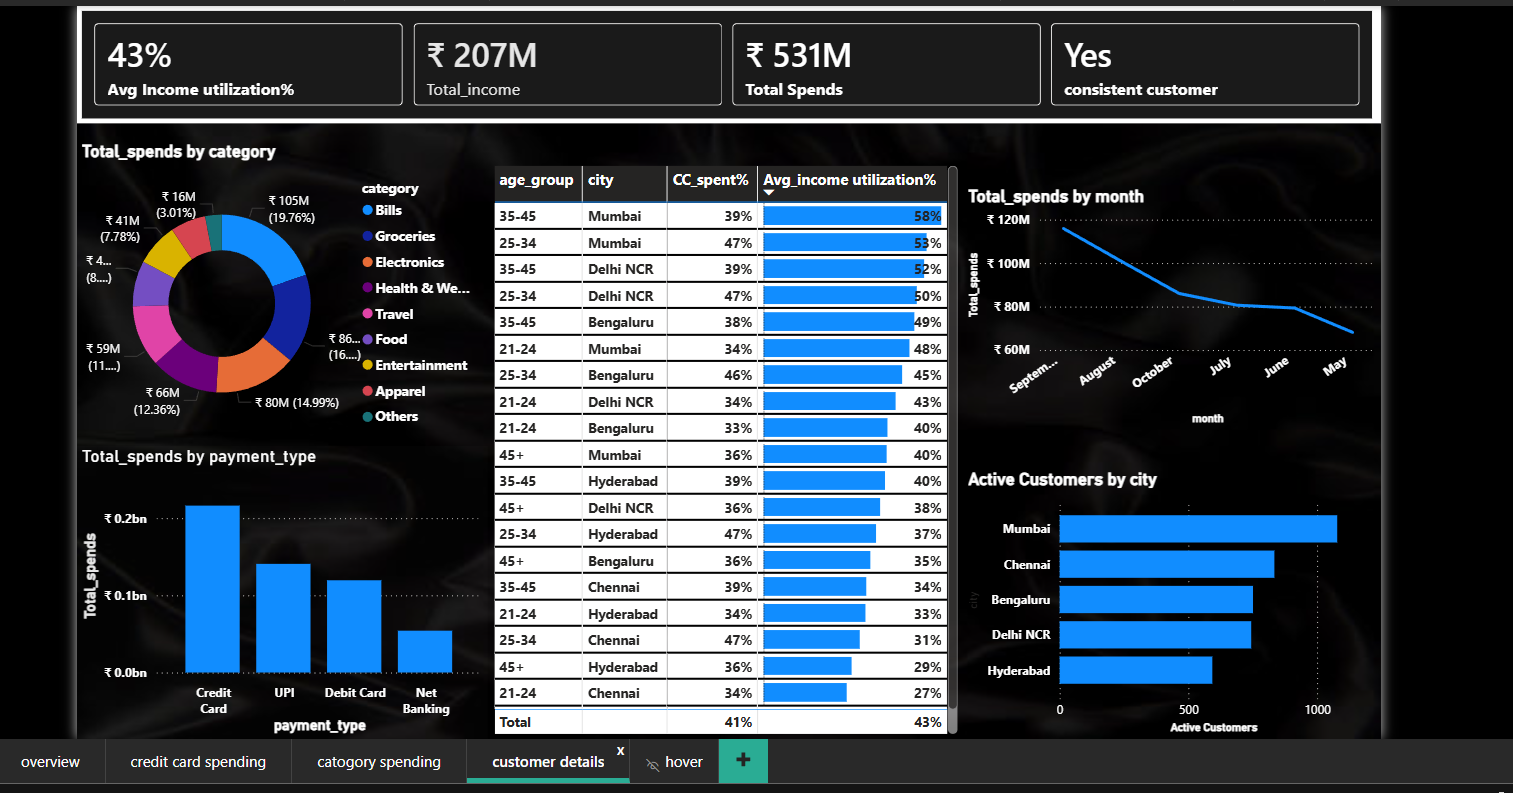

What the dashboard file says about the page in this screenshot:
{"tool":"powerbi","page":{"name":"customer details","canvas":[1280,720],"ordinal":3},"visuals":[{"type":"actionButton","box":[0,0,100,40],"z":0},{"type":"cardVisual","fields":{"Data":["_All_Measure.Avg_income utilization%","_All_Measure.Total_income","_All_Measure.Total_spends","_All_Measure.consistanct status"]},"box":[0,0,1279.7,115.1],"z":1000},{"type":"donutChart","fields":{"Category":["fact_spends.category"],"Y":["_All_Measure.Total_spends"]},"box":[0,131.9,403.6,300.4],"z":2000},{"type":"columnChart","fields":{"Category":["fact_spends.payment_type"],"Y":["_All_Measure.Total_spends"]},"box":[0,432.3,403.6,287.4],"z":3000},{"type":"lineChart","fields":{"Category":["fact_spends.month"],"Y":["_All_Measure.Total_spends"]},"box":[869.9,176.3,410.1,239],"z":4000},{"type":"barChart","fields":{"Category":["dim_customers.city"],"Y":["_All_Measure.Active Customers"]},"box":[869.9,454.5,410.1,265.1],"z":5000},{"type":"tableEx","fields":{"Values":["dim_customers.age_group","dim_customers.city","_All_Measure.credit_card_spent%","_All_Measure.Avg_income utilization%"]},"box":[403.8,151.8,465.5,567.3],"z":6000}]}

Visuals, with their boxes on the page's 1280x720 design canvas (x1, y1, x2, y2). These are canvas units, not pixel positions in the 1513x793 screenshot, which may show the page scaled, cropped or inside an application window:
actionButton: [0, 0, 100, 40]
cardVisual - _All_Measure.Avg_income utilization% x _All_Measure.Total_income: [0, 0, 1280, 115]
donutChart - fact_spends.category x _All_Measure.Total_spends: [0, 132, 404, 432]
columnChart - fact_spends.payment_type x _All_Measure.Total_spends: [0, 432, 404, 720]
lineChart - fact_spends.month x _All_Measure.Total_spends: [870, 176, 1280, 415]
barChart - dim_customers.city x _All_Measure.Active Customers: [870, 454, 1280, 720]
tableEx - dim_customers.age_group x dim_customers.city: [404, 152, 869, 719]
